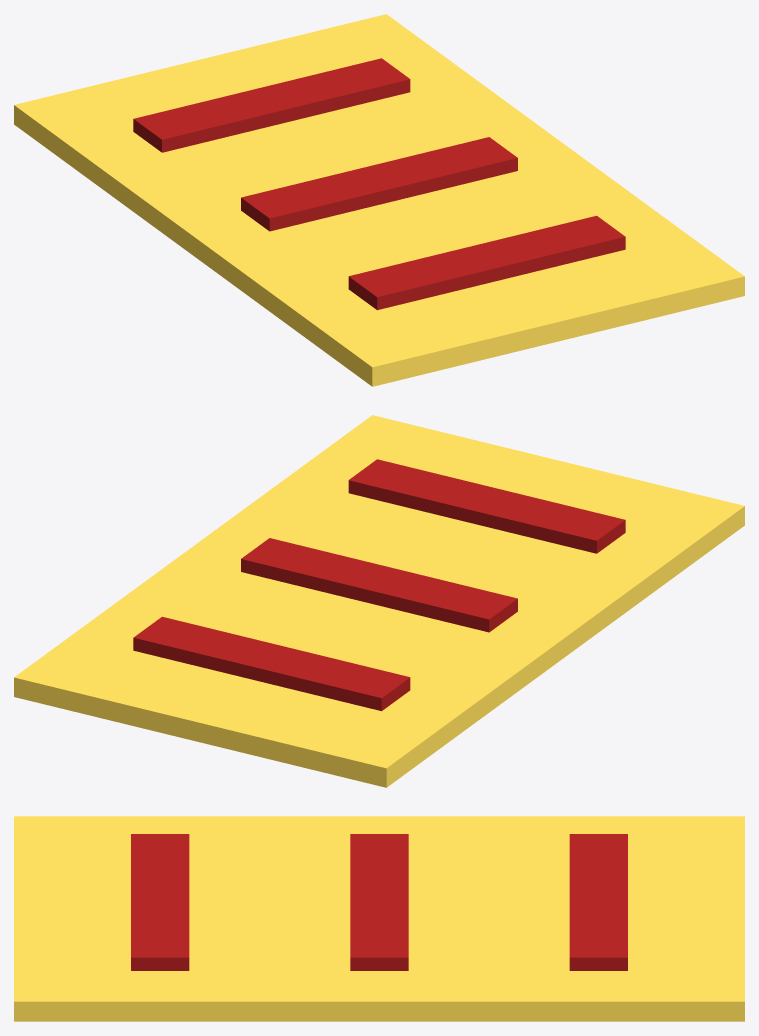
The model's file is lottery_ticket.glb.
3 renders of one model, top to bottom at view 1: azimuth 30°, elevation 25°; view 2: azimuth 150°, elevation 25°; view 3: azimuth 270°, elevation 25°, orthographic.
Parts seen in each view (by area): view 1: paper_ticket, ink_ticket_ink (×3); view 2: paper_ticket, ink_ticket_ink (×3); view 3: paper_ticket, ink_ticket_ink (×3).
Boxes of the visible parts, x1,y1,x2,y2 form: paper_ticket: (14, 14, 744, 386); ink_ticket_ink (×3): (133, 58, 625, 310); paper_ticket: (14, 415, 744, 787); ink_ticket_ink (×3): (133, 459, 625, 711); paper_ticket: (14, 816, 744, 1021); ink_ticket_ink (×3): (131, 834, 627, 970).
Size of the model in its own units: 0.06 by 0.005 by 0.1.
